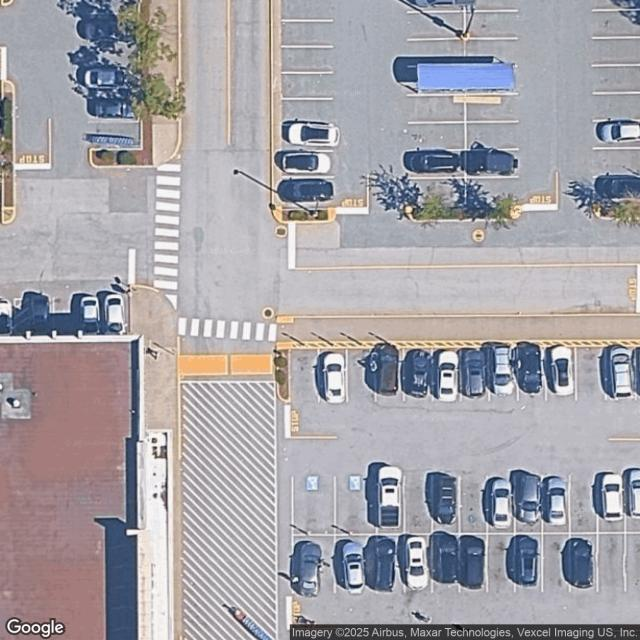car: (377, 466, 403, 527), (461, 535, 486, 588), (610, 346, 635, 399), (286, 122, 340, 146), (405, 536, 429, 589), (279, 178, 332, 202), (516, 535, 540, 586), (300, 540, 322, 595), (550, 346, 575, 394), (280, 150, 330, 174), (374, 536, 396, 590), (435, 534, 459, 583), (518, 474, 542, 522), (491, 346, 514, 396), (518, 347, 543, 393), (344, 540, 366, 592), (572, 537, 594, 589), (469, 151, 515, 175), (409, 348, 431, 398), (490, 476, 511, 528), (464, 348, 486, 397), (436, 476, 458, 524), (325, 351, 345, 403), (437, 351, 459, 398), (413, 152, 460, 174), (546, 478, 568, 524), (82, 66, 128, 88), (602, 472, 623, 520), (378, 343, 397, 394), (93, 101, 139, 122), (29, 292, 49, 338), (599, 121, 640, 143), (104, 295, 126, 335), (601, 177, 640, 199), (81, 296, 100, 336), (626, 468, 640, 517), (1, 300, 12, 332)
lot_boundary: (290, 348, 640, 637), (279, 3, 640, 215), (0, 2, 144, 339)
